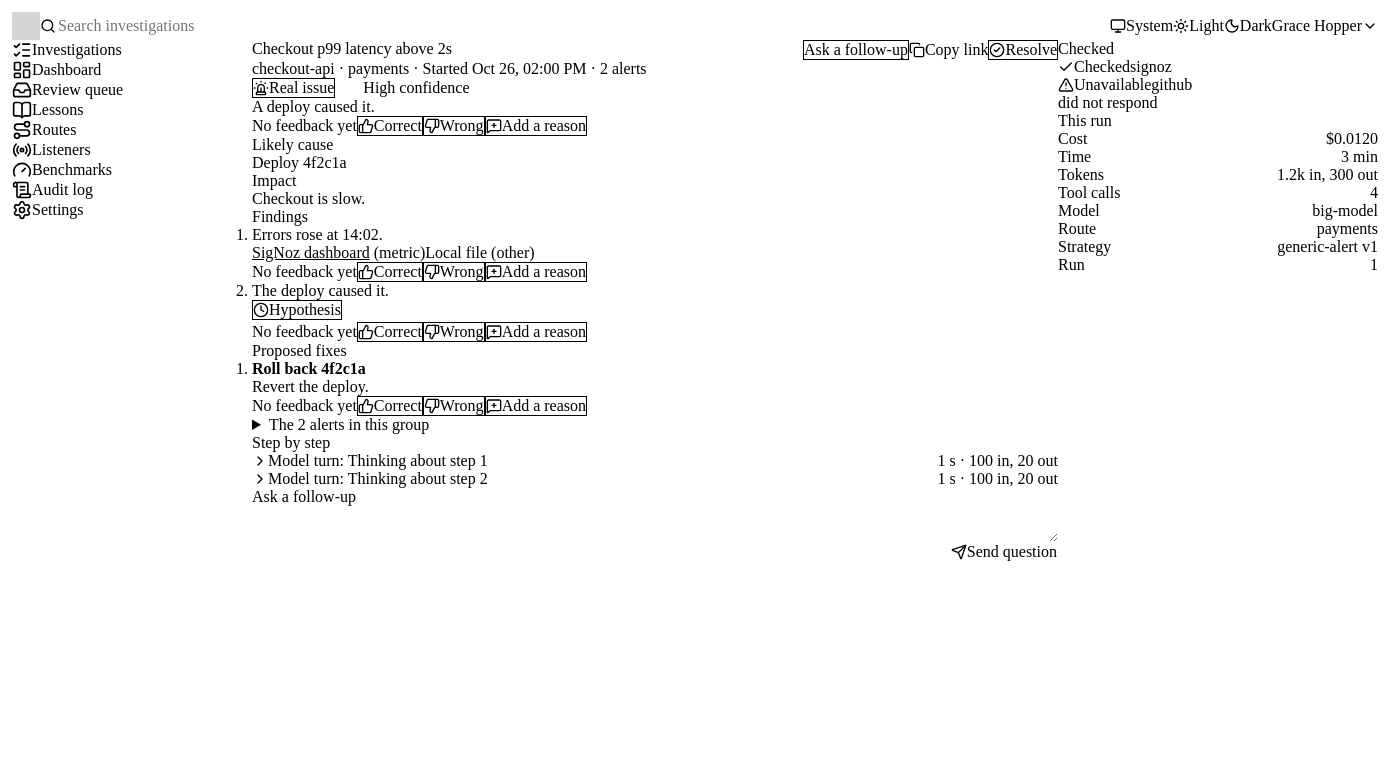
Test: the investigation page › the live stream › opens the stream when a follow-up question is posted from the page, once the run it waits for exists
This screenshot has width=1390, height=780.
Type "Was it the cache?" into the text box labelled "Ask a follow-up". click: x=655, y=524
box: [252,506,1058,542]
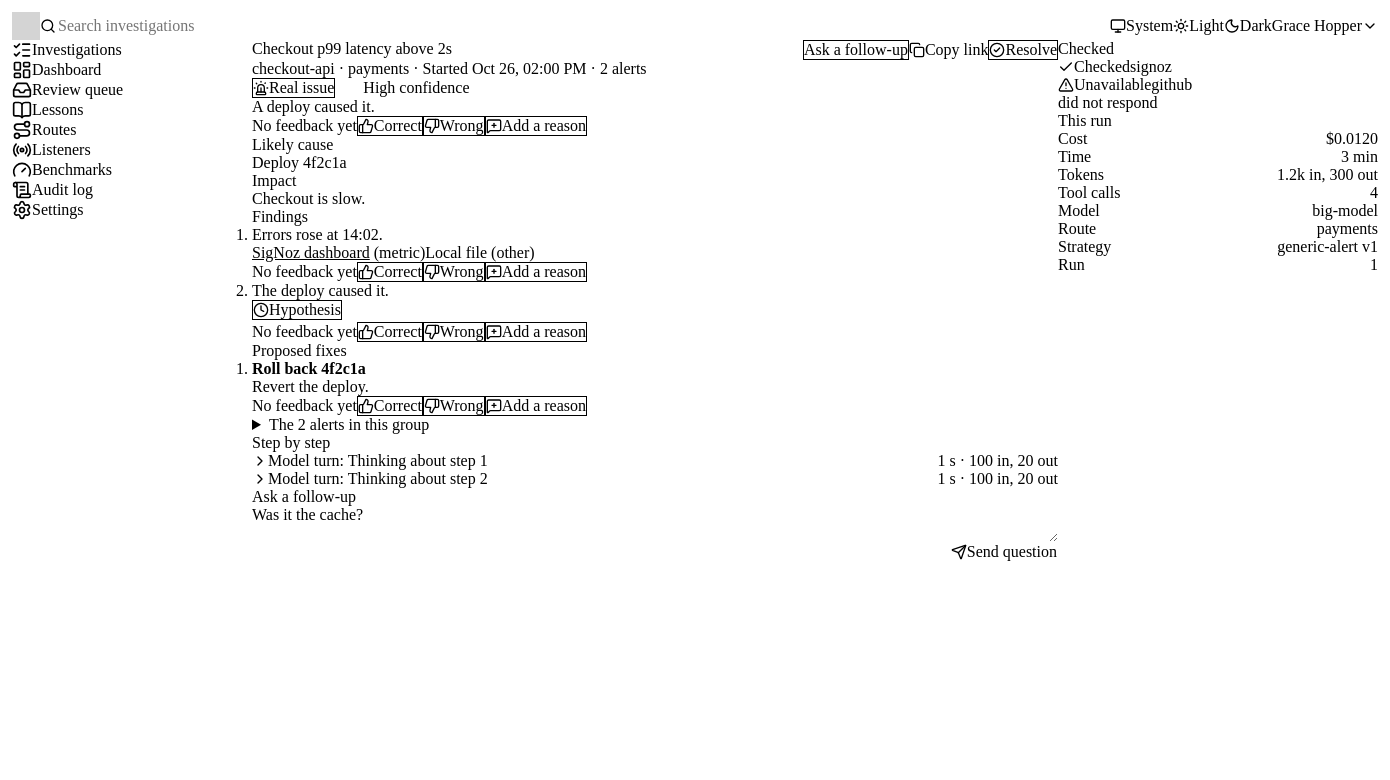
Click the button "Send question". click: x=1004, y=552
box: [950,542,1058,562]
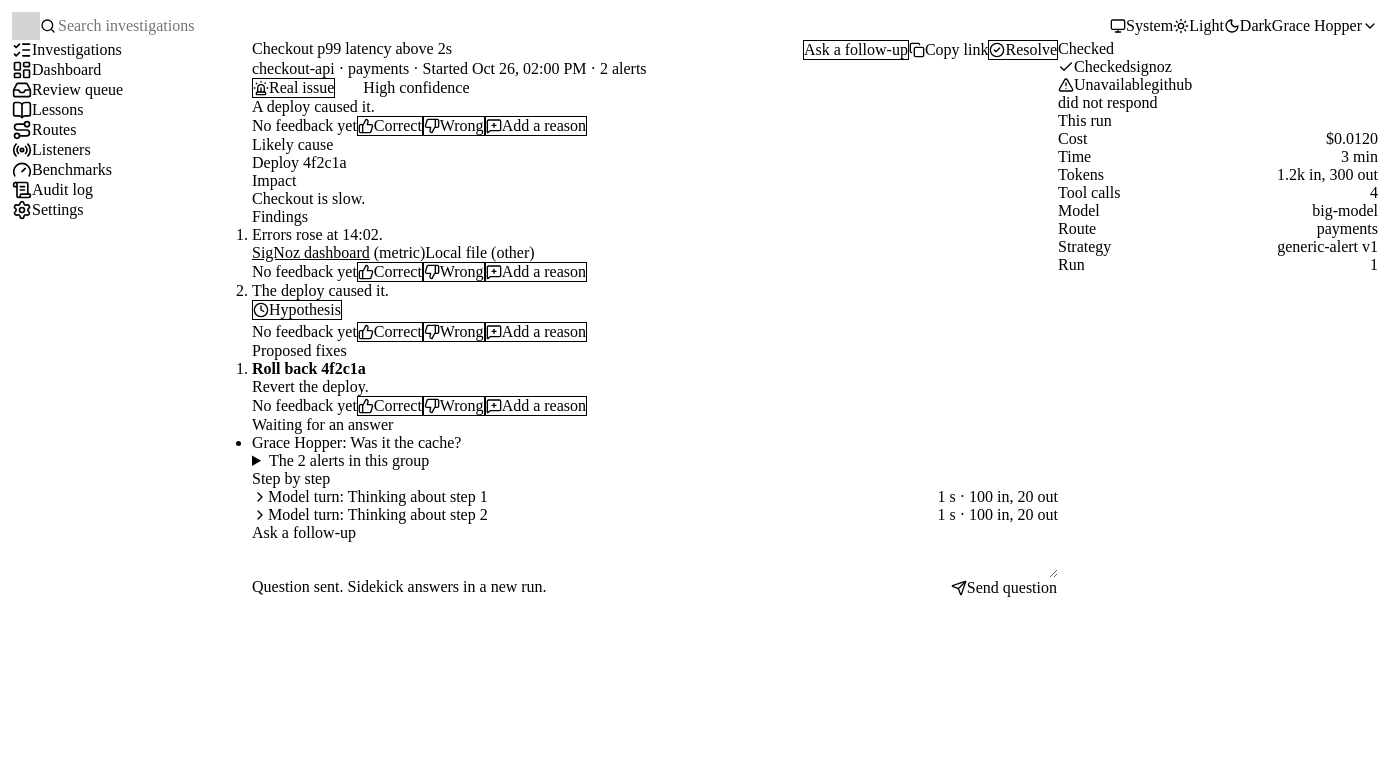
expect the heading "Waiting for an answer" is shown: met, box [252,416,393,433]
